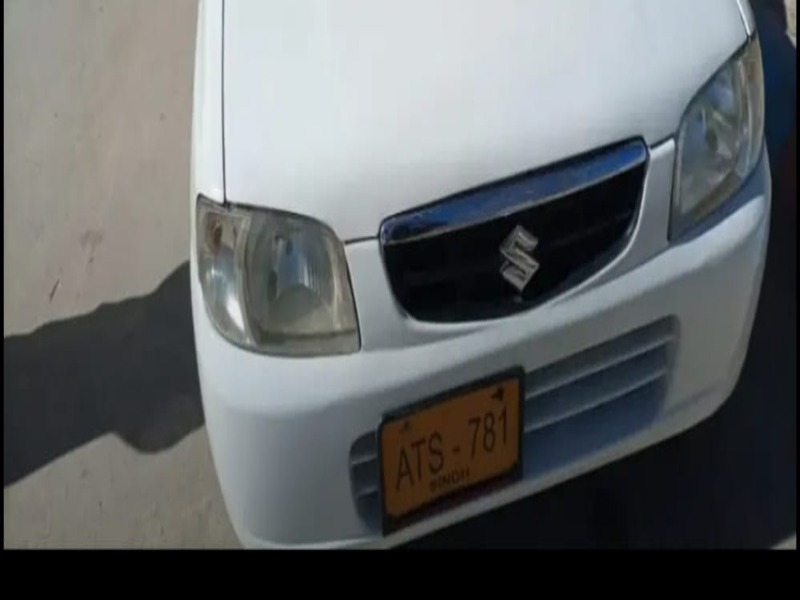License Plate: (379, 369, 525, 501)
